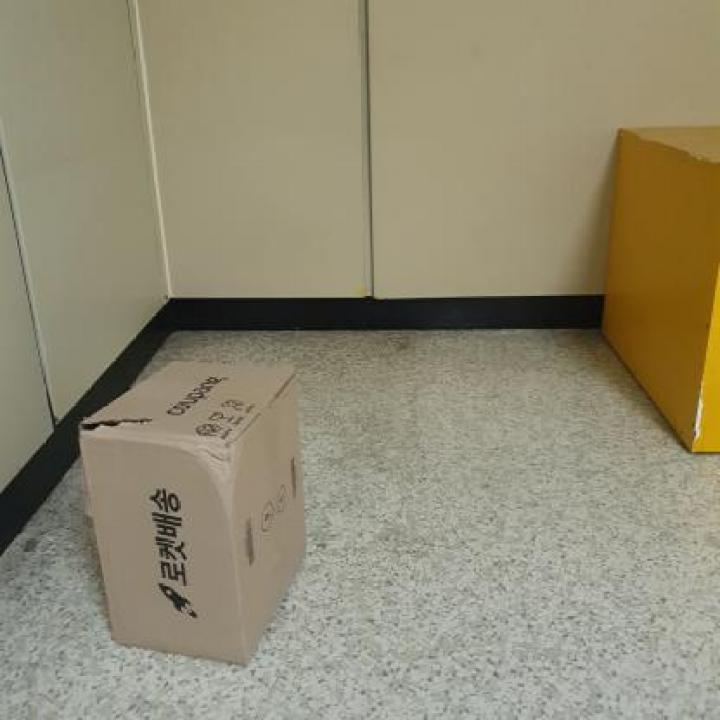box: (57, 347, 341, 693)
